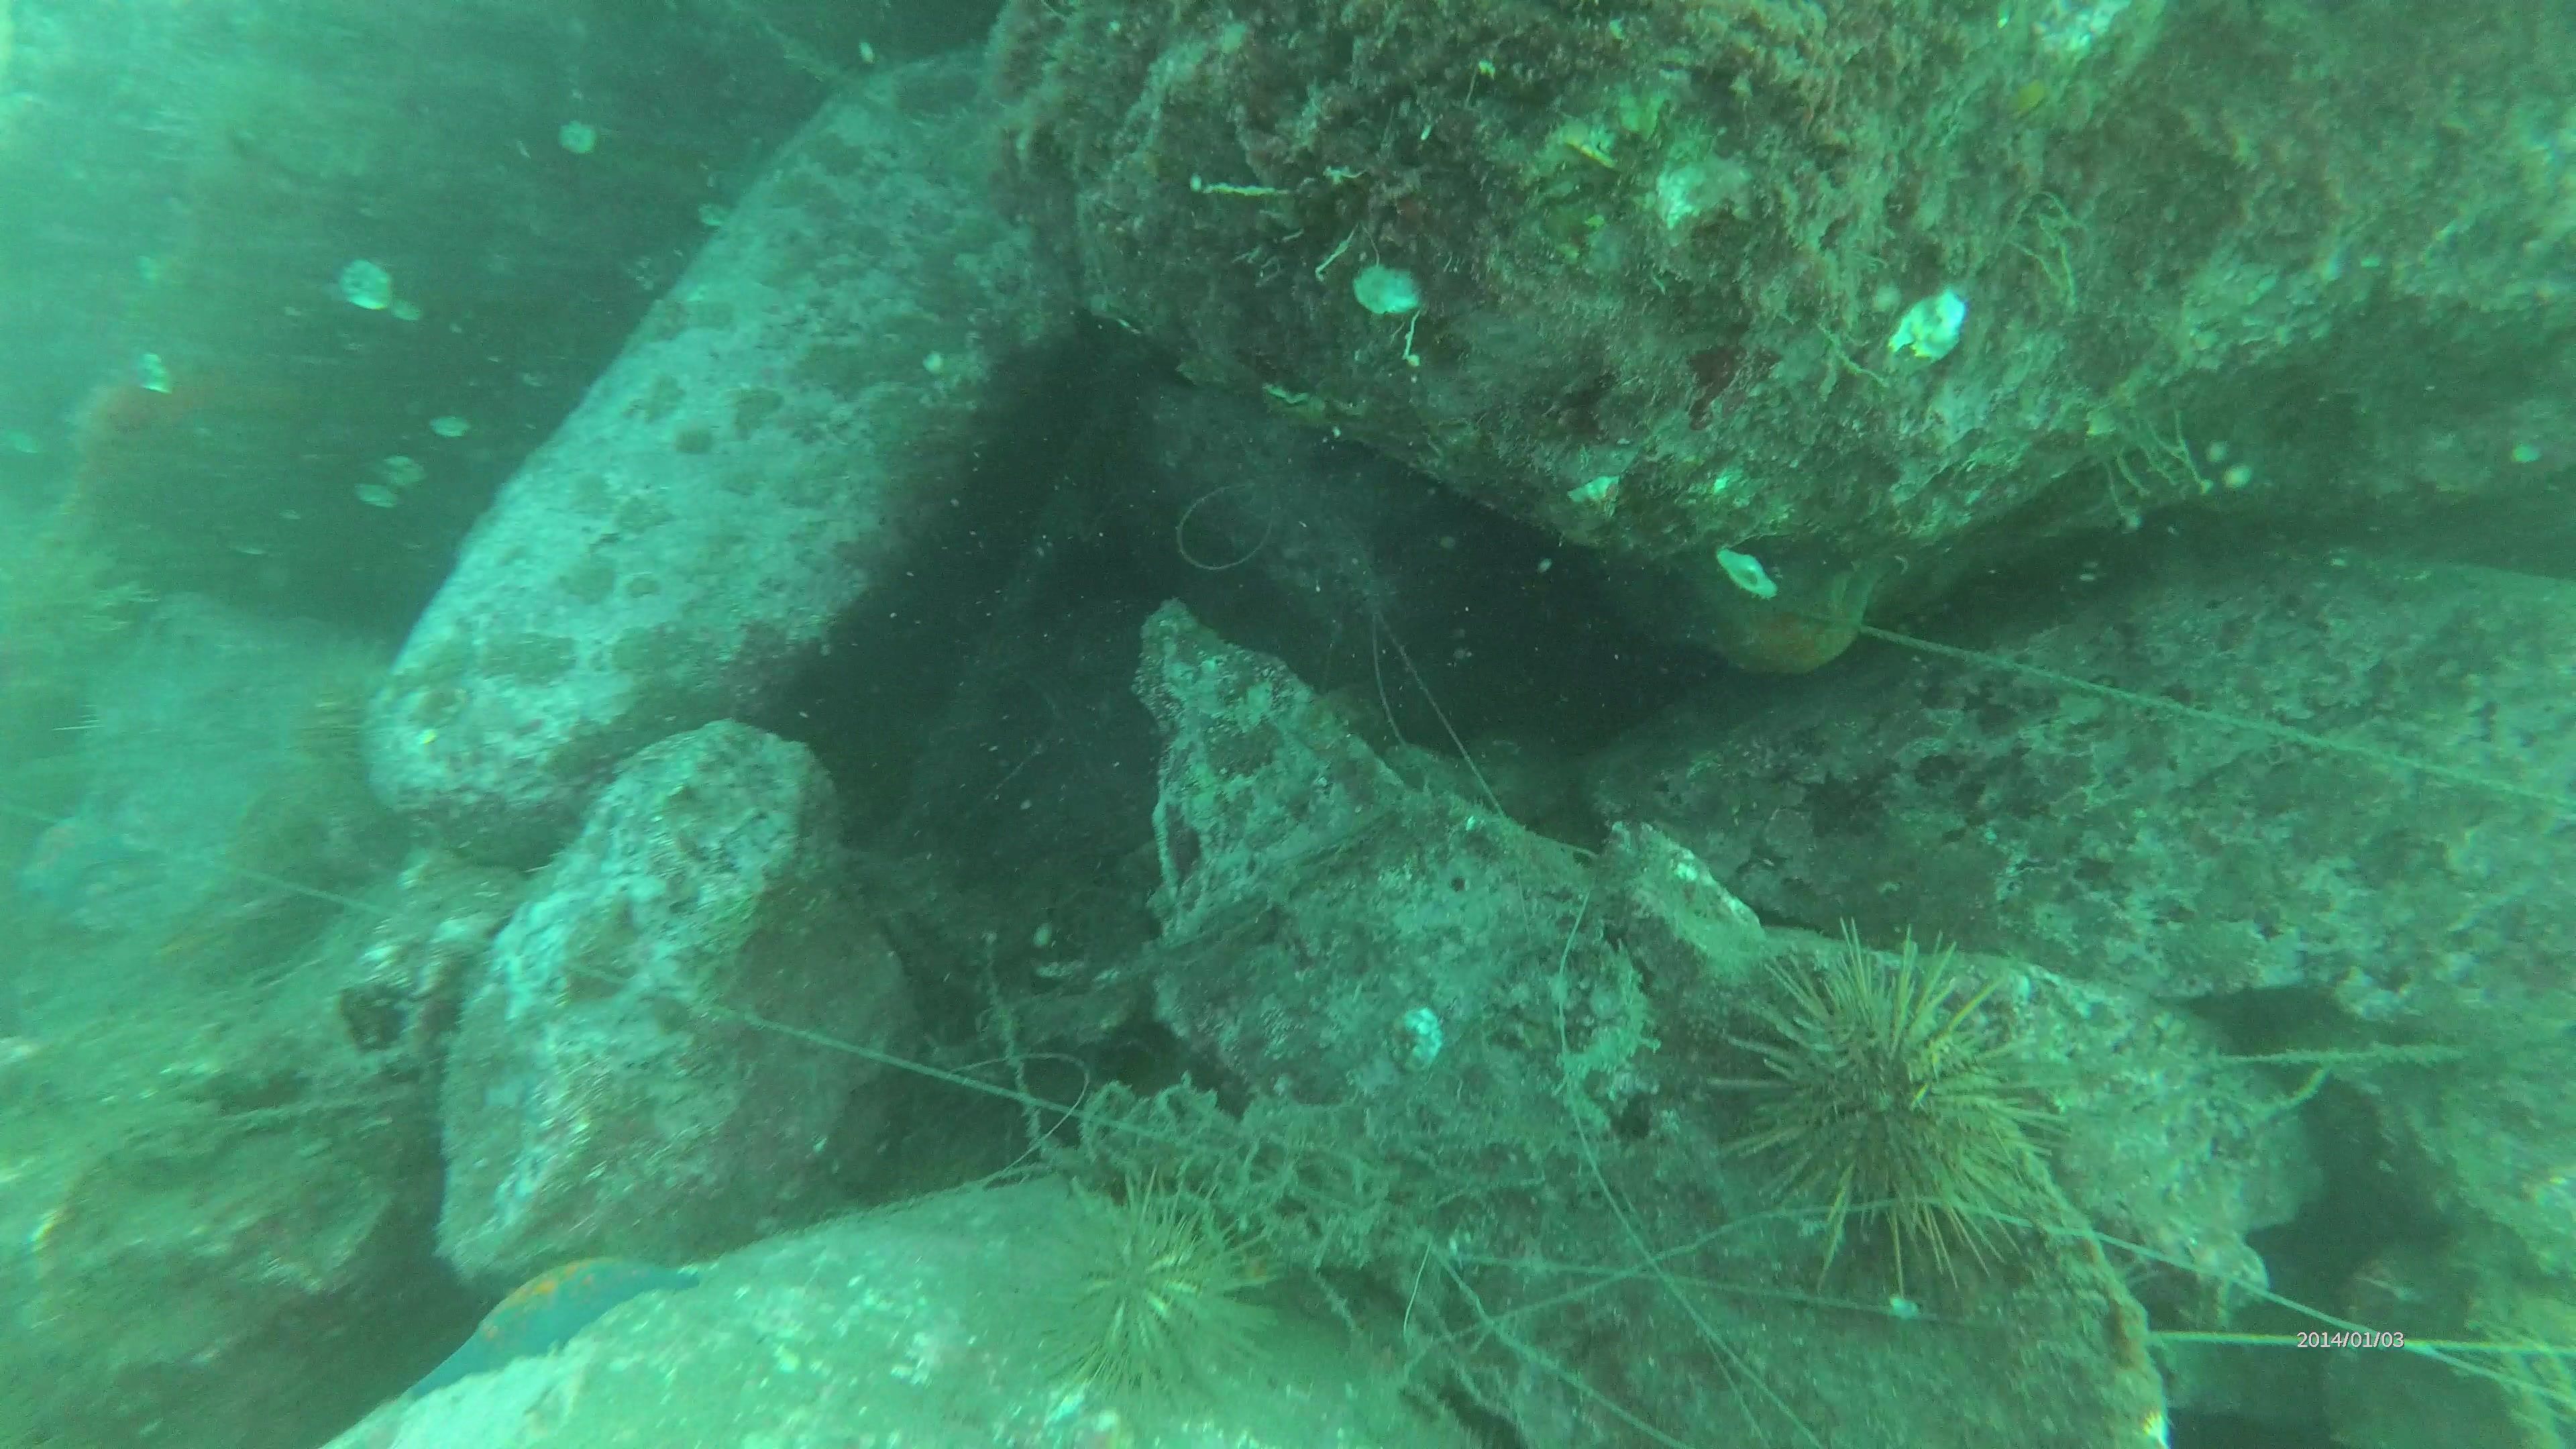echinus: (1713, 911, 2079, 1297), (1030, 1150, 1274, 1412), (274, 669, 403, 805)
starfish: (395, 1256, 699, 1408)
